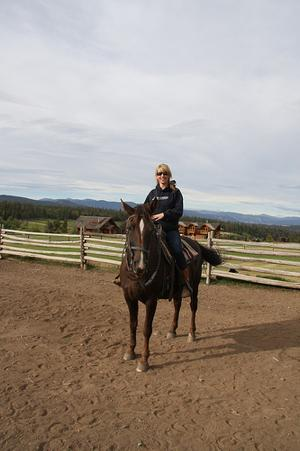person: (143, 162, 189, 272)
